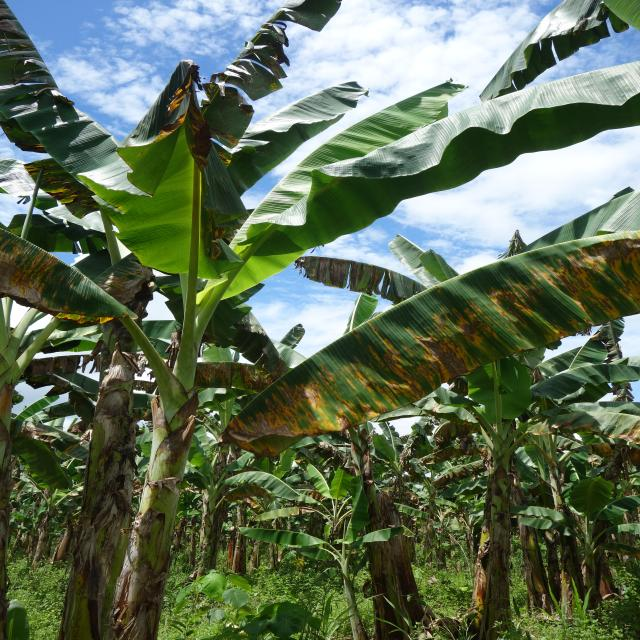Banana-plant: (58, 256, 164, 640), (109, 331, 234, 640), (462, 385, 532, 640)
